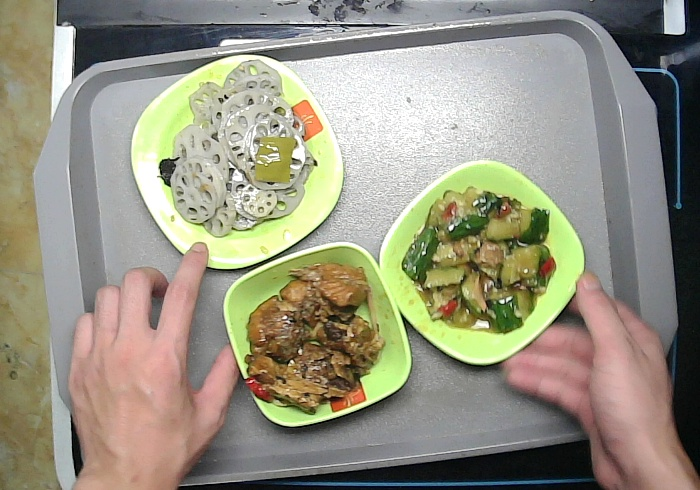SHKJ-Lv_Se_Cai_Die: (376, 158, 588, 367)
SHKJ-Lv_Se_Si_Fang_Cai_Die: (129, 53, 344, 272)
SHKJ-Lv_Se_Xiao_Fang_Die: (220, 243, 413, 427)
